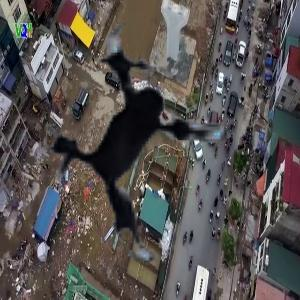drone: (14, 8, 286, 280)
